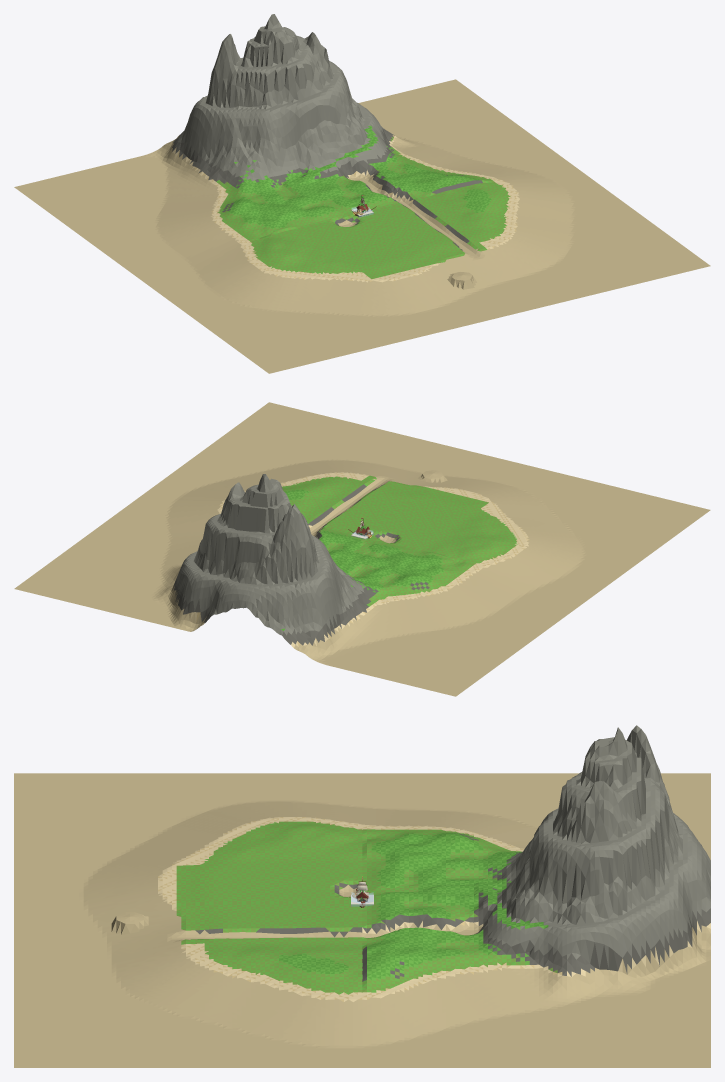
File: models.glb
3 views of the same model, one above another, from view 1: azimuth 30°, elevation 25°; view 2: azimuth 150°, elevation 25°; view 3: azimuth 270°, elevation 25° (orthographic). The views are drawn at different scales.
Parts seen in each view (by area): view 1: island; view 2: island; view 3: island.
Boxes of the visible parts, box(x1,y1,x2,y2) form: island: box(14, 14, 710, 373); island: box(14, 402, 710, 696); island: box(14, 725, 710, 1067).
Bounding box in the file's own units: 300 × 92.88 × 300.
